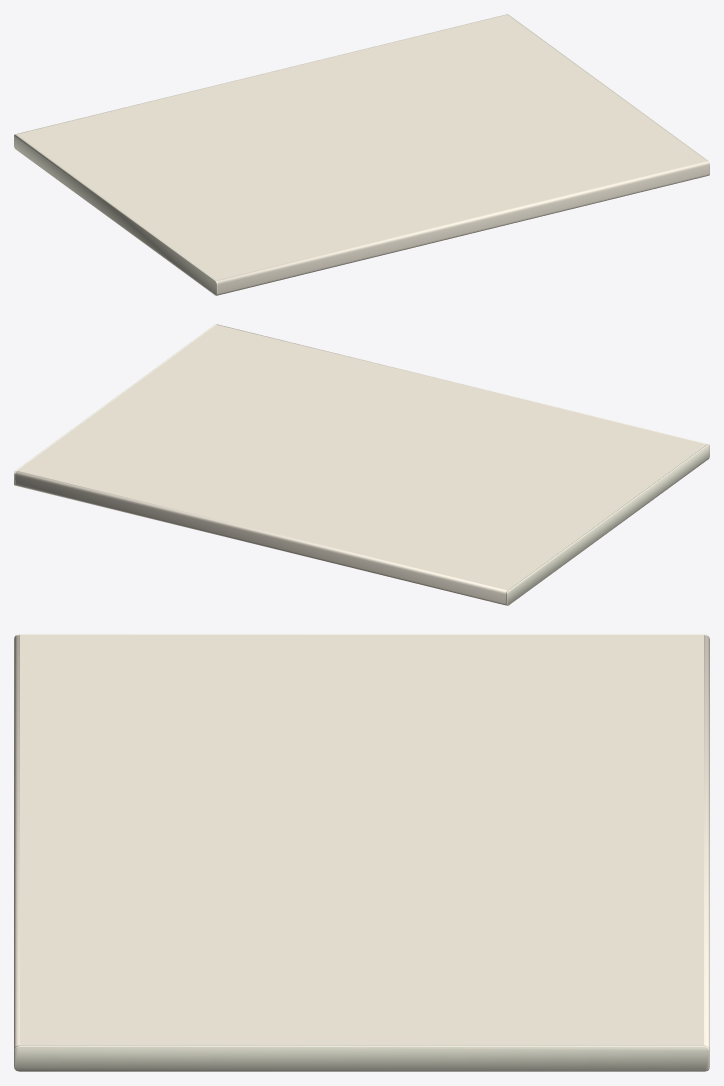
The picture shows the model from 3 angles, top to bottom: view 1: azimuth 30°, elevation 25°; view 2: azimuth 150°, elevation 25°; view 3: azimuth 270°, elevation 25°; orthographic projection. The views are drawn at different scales.
Visible parts, largest first — view 1: model; view 2: model; view 3: model.
Boxes of the visible parts, x1,y1,x2,y2 form: model: (14, 14, 709, 295); model: (14, 324, 709, 605); model: (14, 634, 709, 1071).
Bounding box in the file's own units: 0.418 × 0.012 × 0.298.
Materials: 1 (1 with a texture image).
